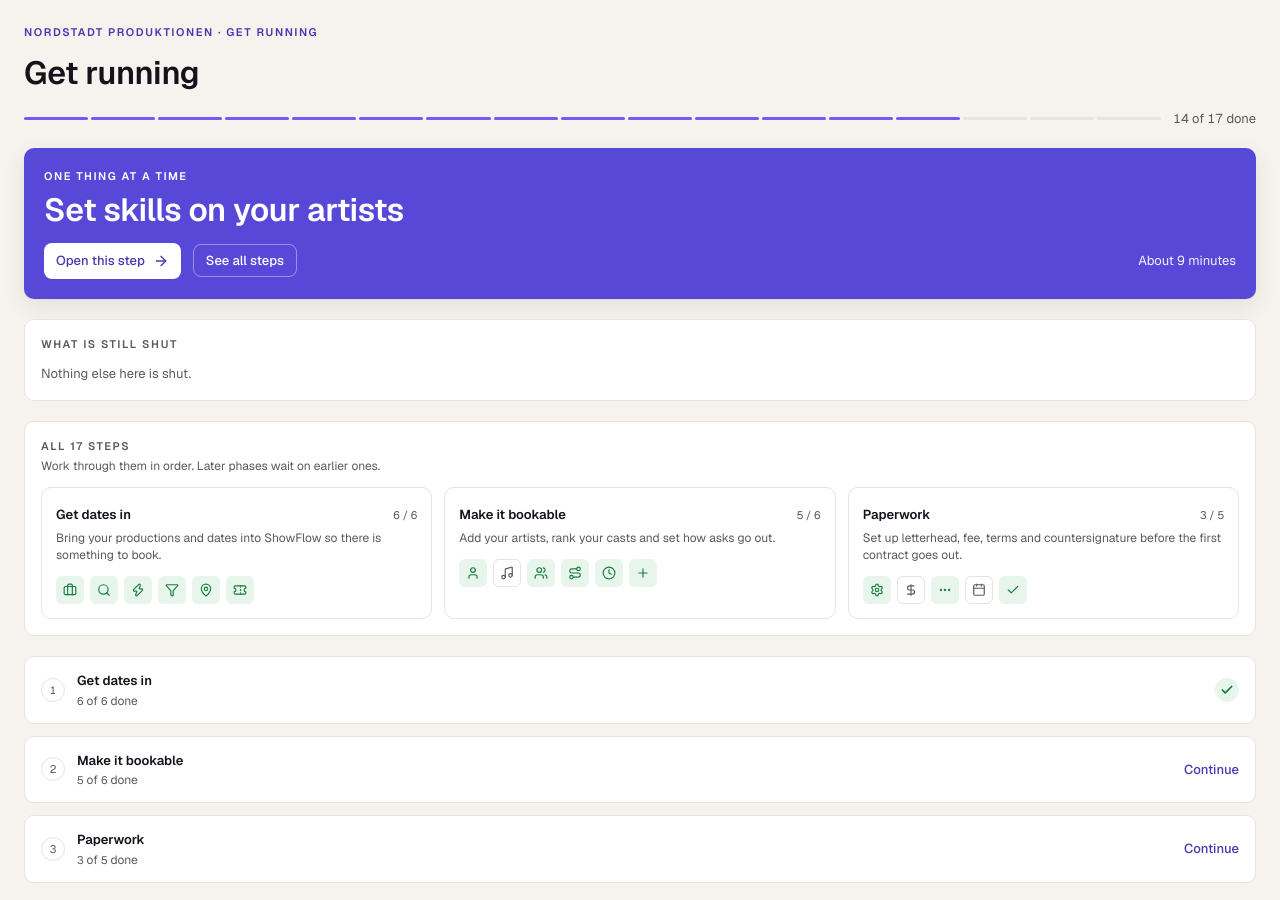
GetRunningBoardV3 › shows the real skills step body inside the wizard, not a placeholder
The image size is (1280, 900).
Step 1. Click the button with test id "phase-row-bookable" → (130, 760), box top-left (25, 736), bottom-right (1255, 802)
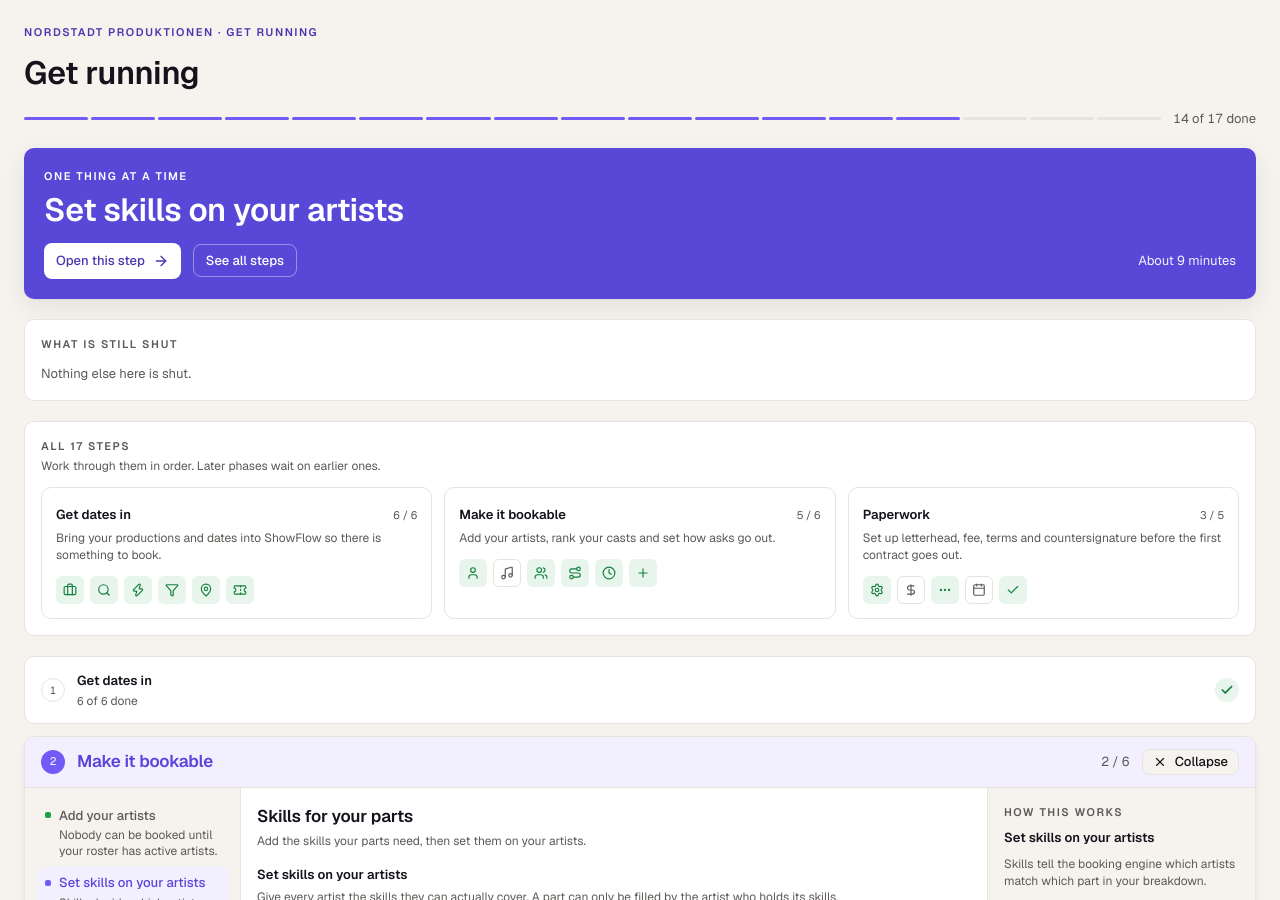
Check: the heading "Skills for your parts" is shown, box top-left (257, 804), bottom-right (413, 826)
Check: the button "Collapse" is shown, box top-left (1142, 748), bottom-right (1239, 774)
